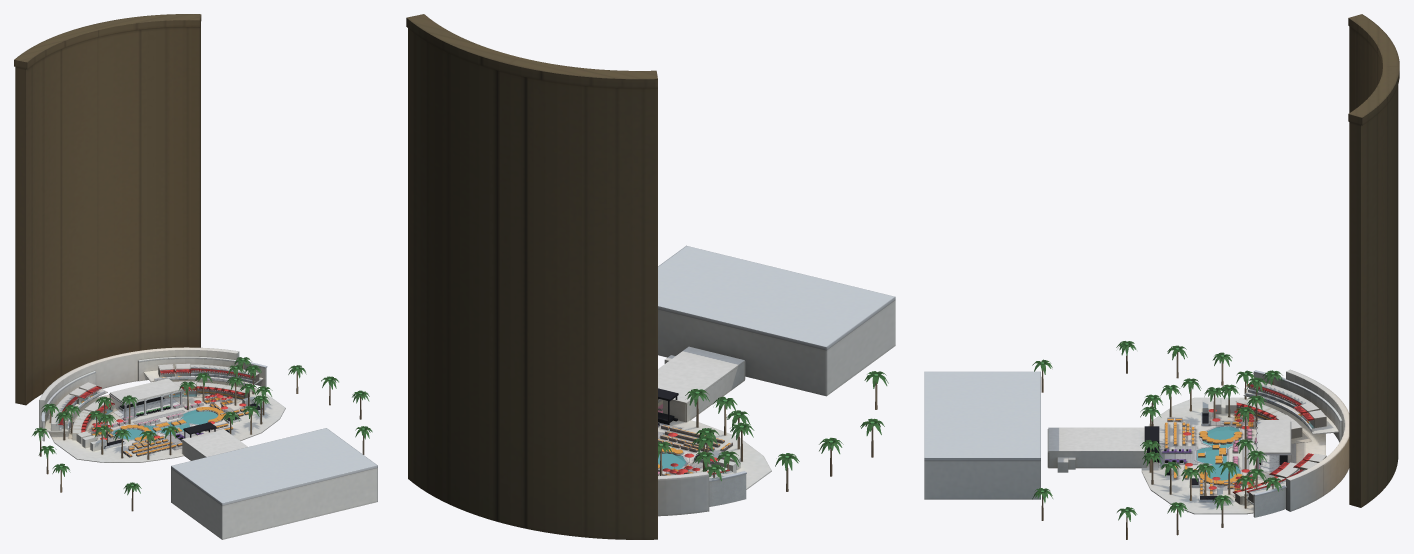
Rendered from encore-beach-club-photo.glb.
The picture shows the model from 3 angles, left to right: view 1: azimuth 30°, elevation 25°; view 2: azimuth 150°, elevation 25°; view 3: azimuth 270°, elevation 25°; orthographic projection. The views are drawn at different scales.
Parts seen in each view (by area): view 1: Encore_Tower, Encore_Casino, Deck, Facade, Backstage_Roof, Gaming_Roof, Terrace_Upper, Gaming_Pavilion, Pool_Water, Pool_Basin, Walkway_Paths; view 2: Encore_Tower, Encore_Casino, Backstage_Roof, Deck, Backstage_Walls, Facade; view 3: Encore_Tower, Encore_Casino, Deck, Backstage_Roof, Facade, Backstage_Walls, Gaming_Roof, Pool_Water, Pool_Basin, Walkway_Paths, Terrace_Upper.
Boxes of the visible parts, bbox=[...] form: Encore_Tower: bbox=[14, 14, 201, 405]; Encore_Casino: bbox=[39, 347, 377, 539]; Deck: bbox=[49, 379, 285, 462]; Facade: bbox=[41, 356, 267, 441]; Backstage_Roof: bbox=[182, 429, 247, 457]; Gaming_Roof: bbox=[109, 378, 183, 405]; Terrace_Upper: bbox=[45, 369, 263, 432]; Gaming_Pavilion: bbox=[109, 390, 183, 418]; Pool_Water: bbox=[113, 410, 217, 439]; Pool_Basin: bbox=[113, 410, 217, 439]; Walkway_Paths: bbox=[69, 400, 237, 449]; Encore_Tower: bbox=[406, 14, 657, 539]; Encore_Casino: bbox=[658, 245, 895, 516]; Backstage_Roof: bbox=[658, 346, 744, 404]; Deck: bbox=[658, 420, 771, 489]; Backstage_Walls: bbox=[663, 355, 745, 421]; Facade: bbox=[709, 471, 746, 506]; Encore_Tower: bbox=[1348, 14, 1399, 507]; Encore_Casino: bbox=[924, 369, 1349, 511]; Deck: bbox=[1141, 397, 1325, 514]; Backstage_Roof: bbox=[1048, 427, 1146, 452]; Facade: bbox=[1253, 370, 1342, 517]; Backstage_Walls: bbox=[1047, 429, 1146, 472]; Gaming_Roof: bbox=[1257, 420, 1291, 455]; Pool_Water: bbox=[1197, 426, 1240, 480]; Pool_Basin: bbox=[1197, 427, 1240, 480]; Walkway_Paths: bbox=[1159, 411, 1295, 490]; Terrace_Upper: bbox=[1243, 392, 1338, 504].
Size of what is drawn, in the model's own units: 148 by 155 by 169.
Materials: 51 (50 with a texture image).
